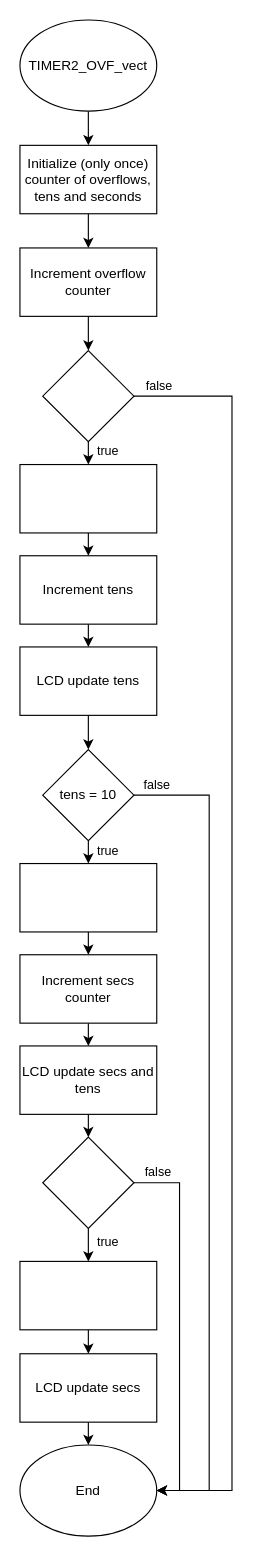
Some shapes in this 261 by 1556 pixel diagram are drawn without their labels. Each missing label, with the centre of its shape:
"Number overflows >= 6" goes at (88,395).
"Reset counter of overflows" goes at (88,498).
"Reset secs counter" goes at (88,1295).
"Reset tens counter" goes at (88,897).
"secs = 60" goes at (88,1182).
